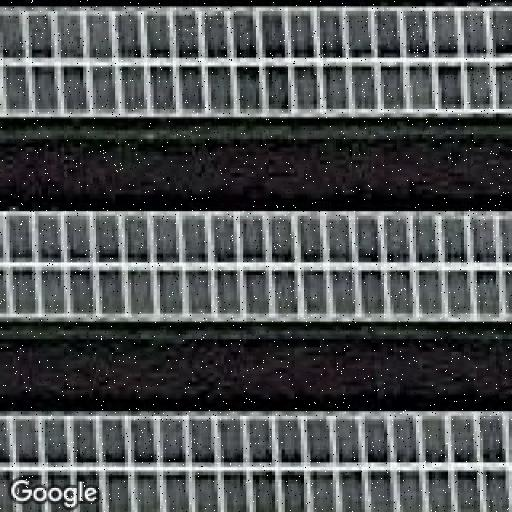solar-panel: (0, 208, 512, 326), (0, 5, 512, 123), (0, 409, 512, 512)
